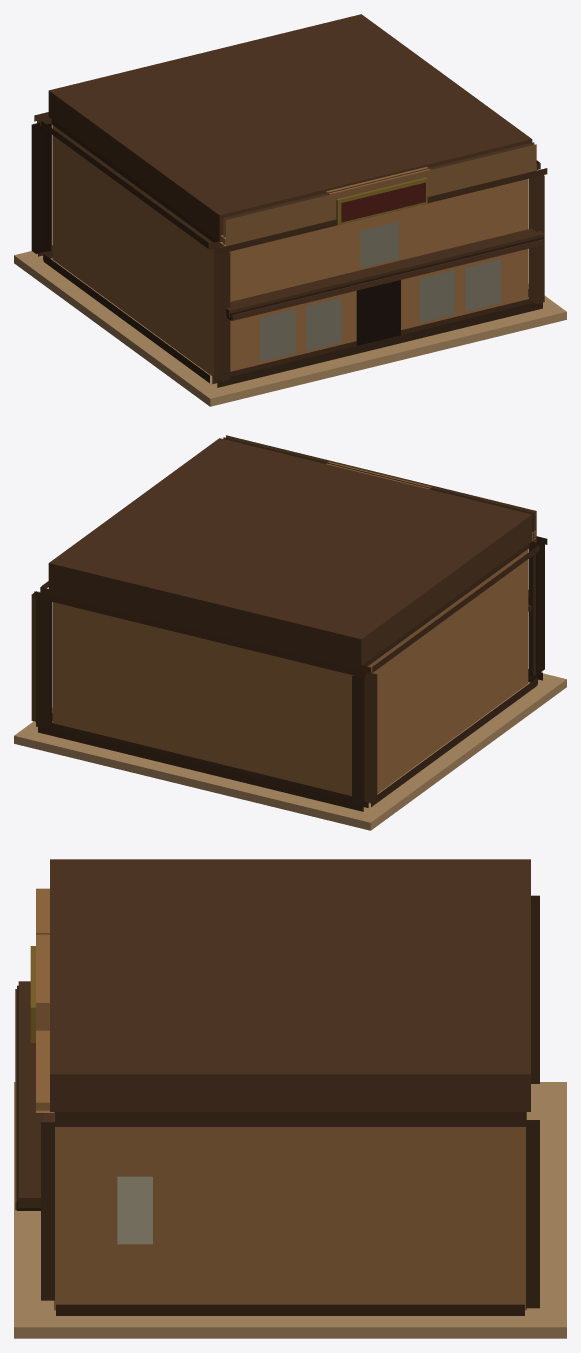
The model's file is TumbleweedRunnerSil.fbx.
The picture shows the model from 3 angles, top to bottom: view 1: azimuth 30°, elevation 25°; view 2: azimuth 150°, elevation 25°; view 3: azimuth 270°, elevation 25°; orthographic projection. The views are drawn at different scales.
Visible parts, largest first — view 1: SA_S_All; view 2: SA_S_All; view 3: SA_S_All.
Part boxes in pixels (x1,y1,x2,y2): SA_S_All: [14, 14, 566, 406]; SA_S_All: [14, 435, 566, 830]; SA_S_All: [14, 859, 566, 1338].
Size of the model in its own units: 42.04 by 19.9 by 40.04.
